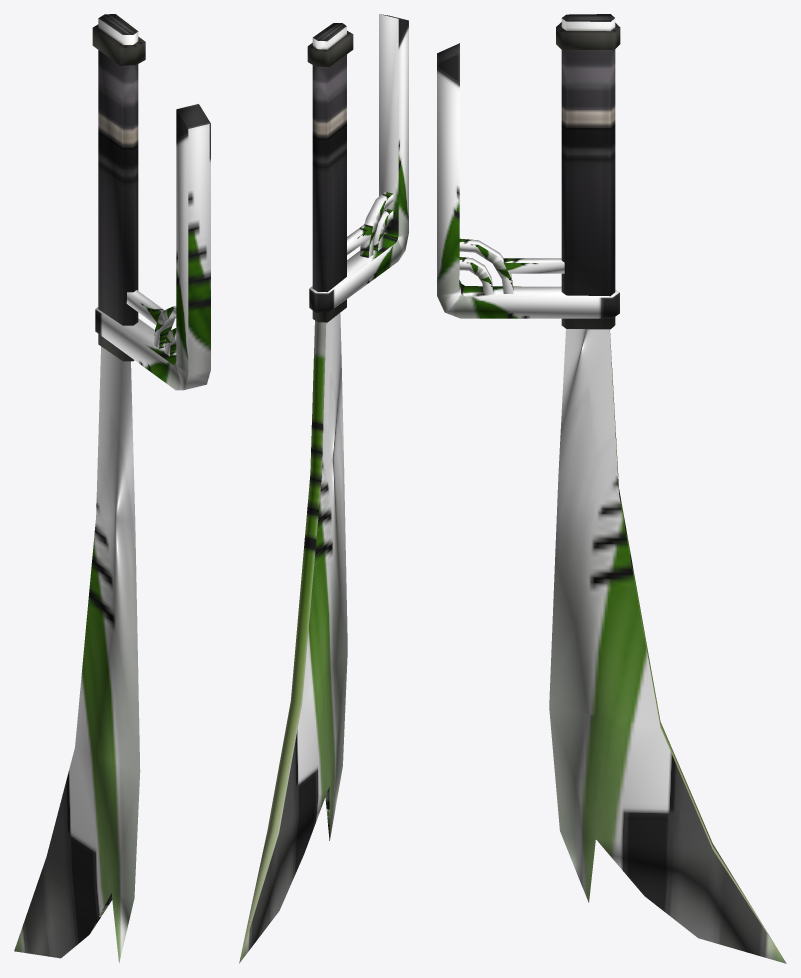
The model's file is dualswords04l.obj.
The picture shows the model from 3 angles, left to right: view 1: azimuth 30°, elevation 25°; view 2: azimuth 150°, elevation 25°; view 3: azimuth 270°, elevation 25°; orthographic projection. The views are drawn at different scales.
Parts seen in each view (by area): view 1: MDL_w2dsw04_bod00_001; view 2: MDL_w2dsw04_bod00_001; view 3: MDL_w2dsw04_bod00_001.
Part boxes in pixels (x1,y1,x2,y2): MDL_w2dsw04_bod00_001: (14,14,210,963); MDL_w2dsw04_bod00_001: (239,14,408,963); MDL_w2dsw04_bod00_001: (437,14,786,963).
Size of the model in its own units: 0.0197 by 0.7502 by 0.2515.
